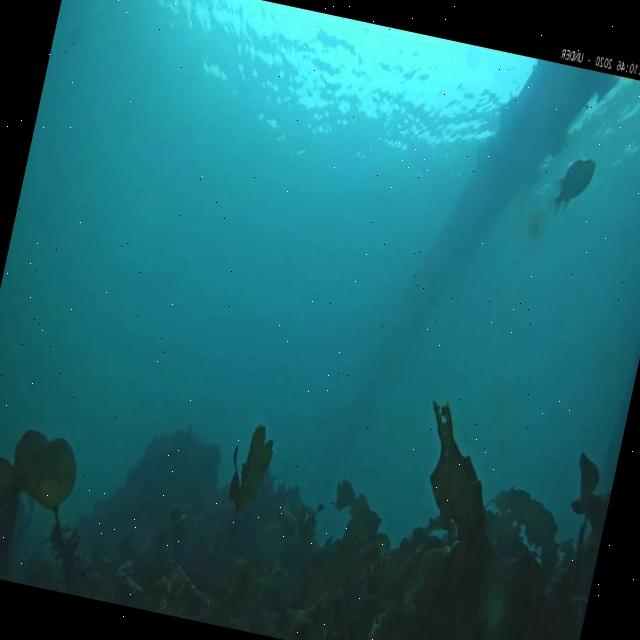fish: (542, 154, 594, 224)
